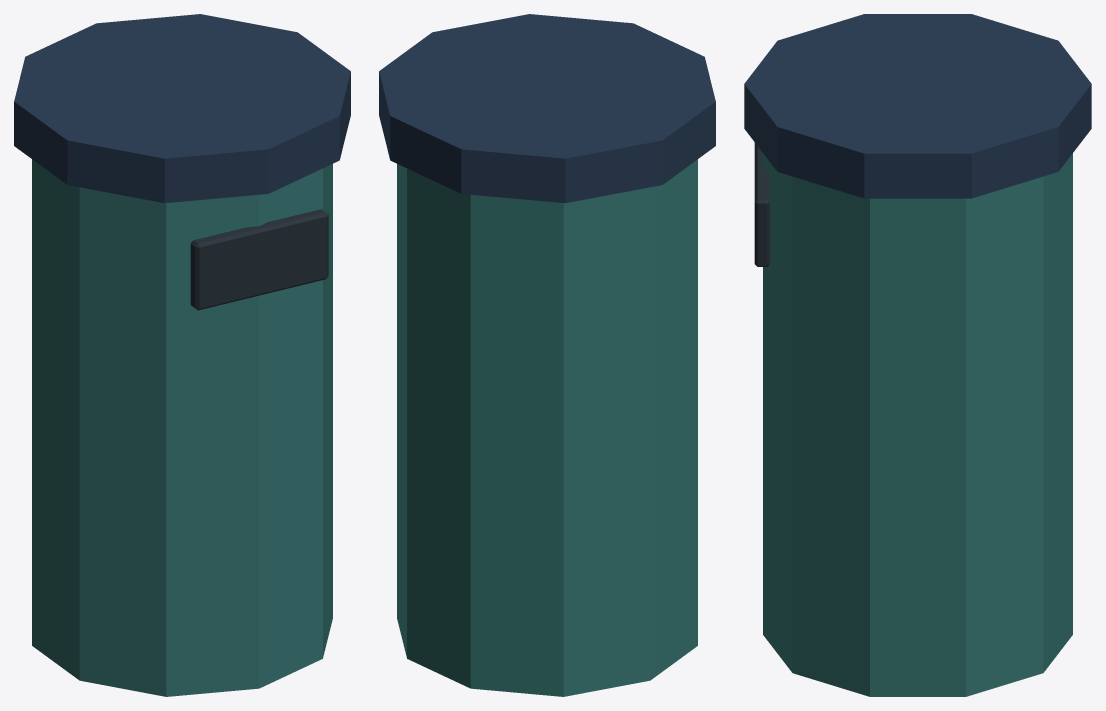
File: TrashBin_City.fbx
The picture shows the model from 3 angles, left to right: view 1: azimuth 30°, elevation 25°; view 2: azimuth 150°, elevation 25°; view 3: azimuth 270°, elevation 25°; orthographic projection.
Parts seen in each view (by area): view 1: Bin.001, Top.001, Opening; view 2: Bin.001, Top.001; view 3: Bin.001, Top.001, Opening.
Boxes of the visible parts, left/top/right/bottom form: Bin.001: left=32, top=159, right=332, bottom=696; Top.001: left=14, top=14, right=350, bottom=203; Opening: left=190, top=209, right=328, bottom=310; Bin.001: left=397, top=159, right=697, bottom=696; Top.001: left=379, top=14, right=715, bottom=203; Bin.001: left=763, top=153, right=1072, bottom=696; Top.001: left=744, top=14, right=1091, bottom=198; Opening: left=754, top=142, right=769, bottom=266.
Size of the model in its own units: 0.5326 by 0.98 by 0.56.
